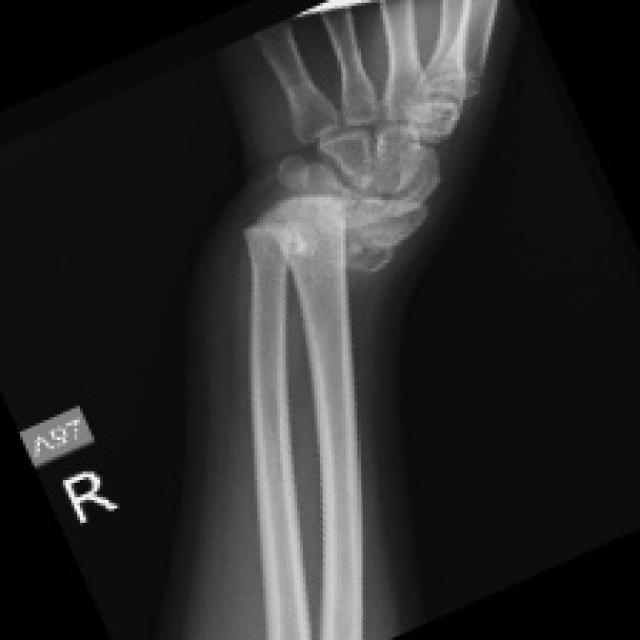fracture: (195, 135, 373, 283)
